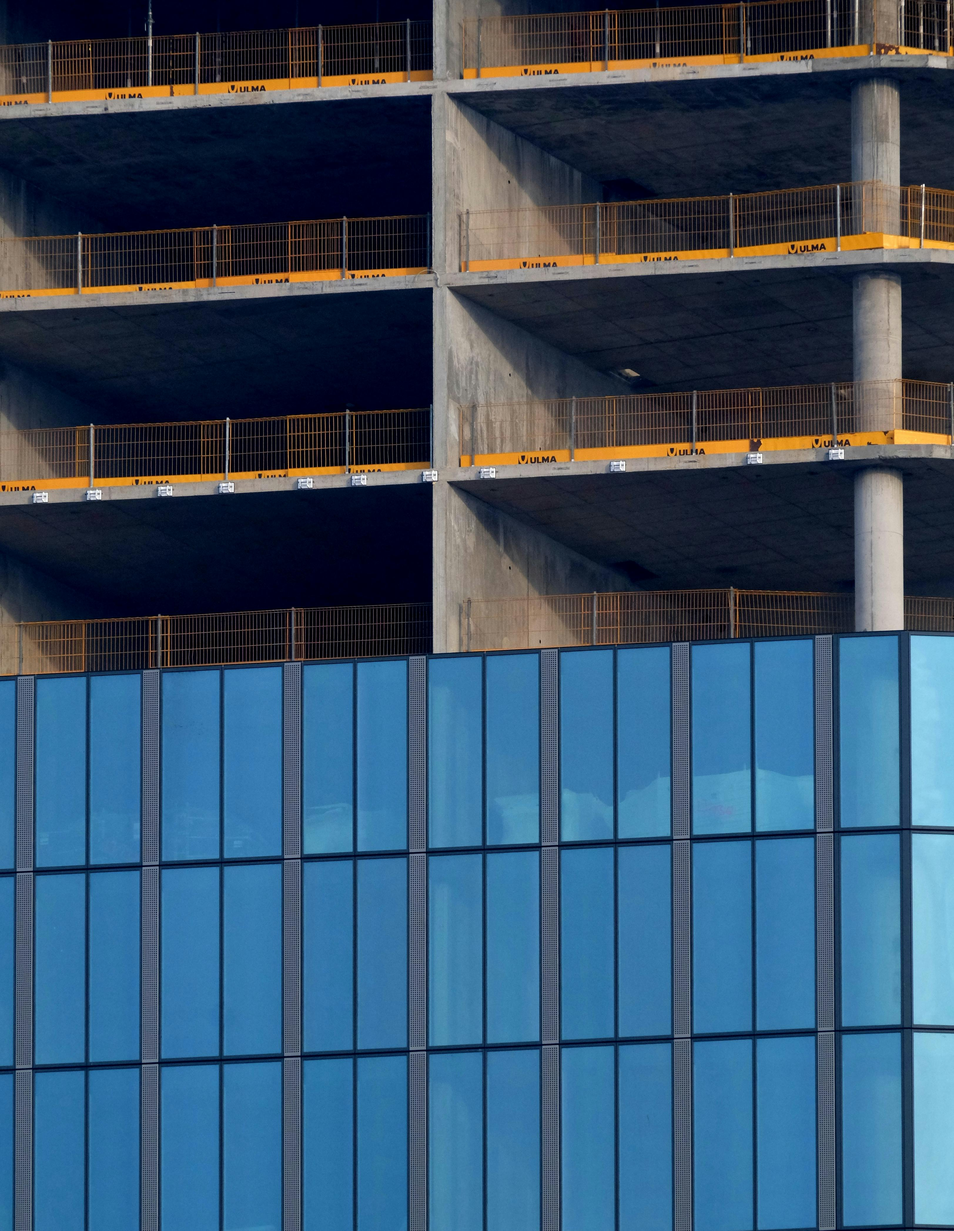glass_panel: (755, 837, 815, 1030), (842, 1033, 902, 1226), (756, 1035, 815, 1231), (754, 640, 814, 831), (693, 1040, 753, 1231), (839, 636, 899, 827), (841, 835, 900, 1027), (223, 864, 282, 1055), (692, 643, 751, 833), (694, 841, 752, 1033), (161, 867, 219, 1058), (224, 667, 282, 858), (163, 671, 220, 860), (560, 848, 614, 1039), (618, 844, 671, 1036), (429, 854, 482, 1046), (486, 654, 539, 845), (618, 1044, 672, 1231), (560, 650, 613, 840), (429, 657, 482, 847), (617, 648, 670, 838), (561, 1046, 615, 1231), (222, 1062, 281, 1231), (487, 852, 539, 1043), (89, 675, 141, 863), (486, 1050, 540, 1231), (35, 873, 86, 1064), (89, 871, 140, 1062), (303, 663, 354, 853), (429, 1052, 483, 1231), (161, 1065, 219, 1231), (357, 858, 407, 1049), (36, 676, 86, 867), (357, 660, 407, 850), (304, 860, 353, 1051), (357, 1056, 407, 1231), (303, 1059, 353, 1231), (910, 636, 954, 826), (33, 1071, 85, 1231), (911, 834, 954, 1025), (89, 1068, 139, 1231), (913, 1033, 954, 1225), (0, 680, 15, 868), (0, 876, 14, 1066), (0, 1073, 13, 1231)
